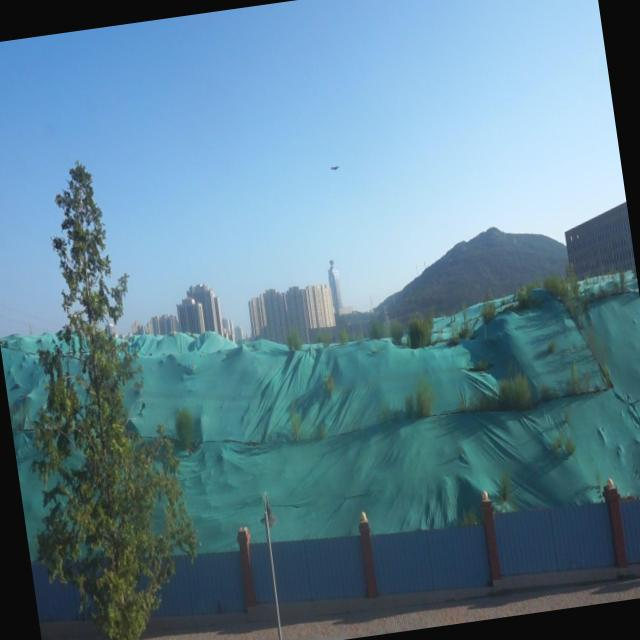drone: (326, 159, 344, 177)
